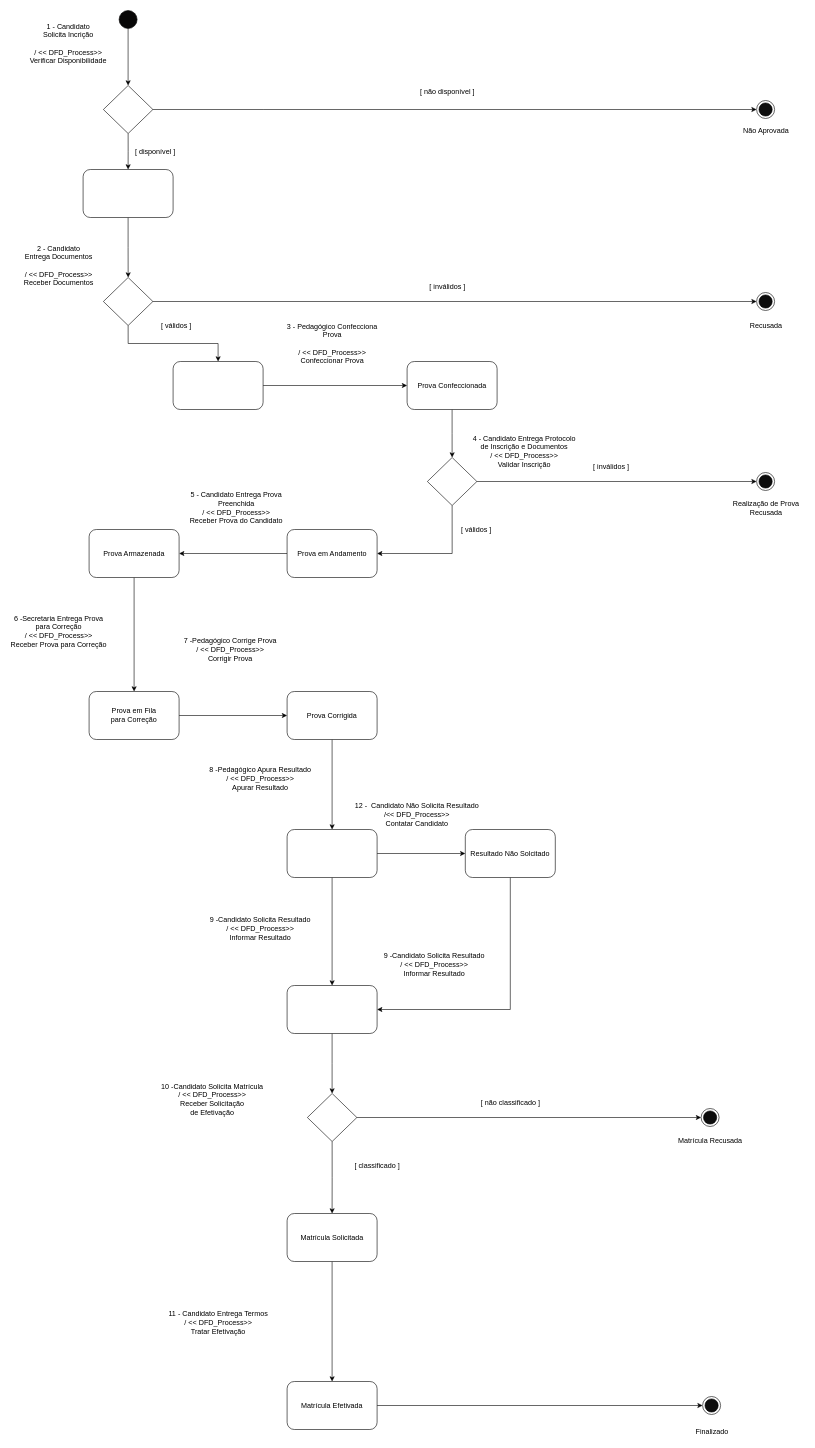
This 815x1448 diagram has some shape labels left out. The centre of each missing label's shape, as x and y in pixels:
Inscrição Efetivada: the point at 217,385
Inscrição Solicitada: the point at 127,193
Resultado Apurado: the point at 331,853
Resultado Informado: the point at 331,1009
